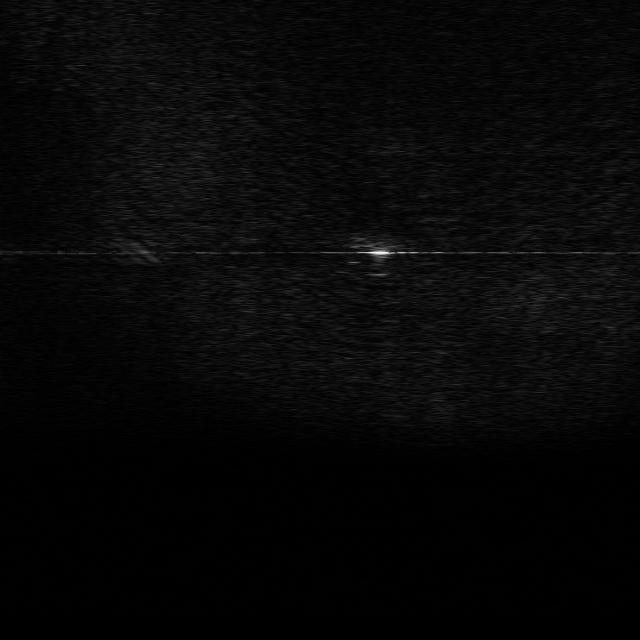plane: (350, 233, 424, 261)
